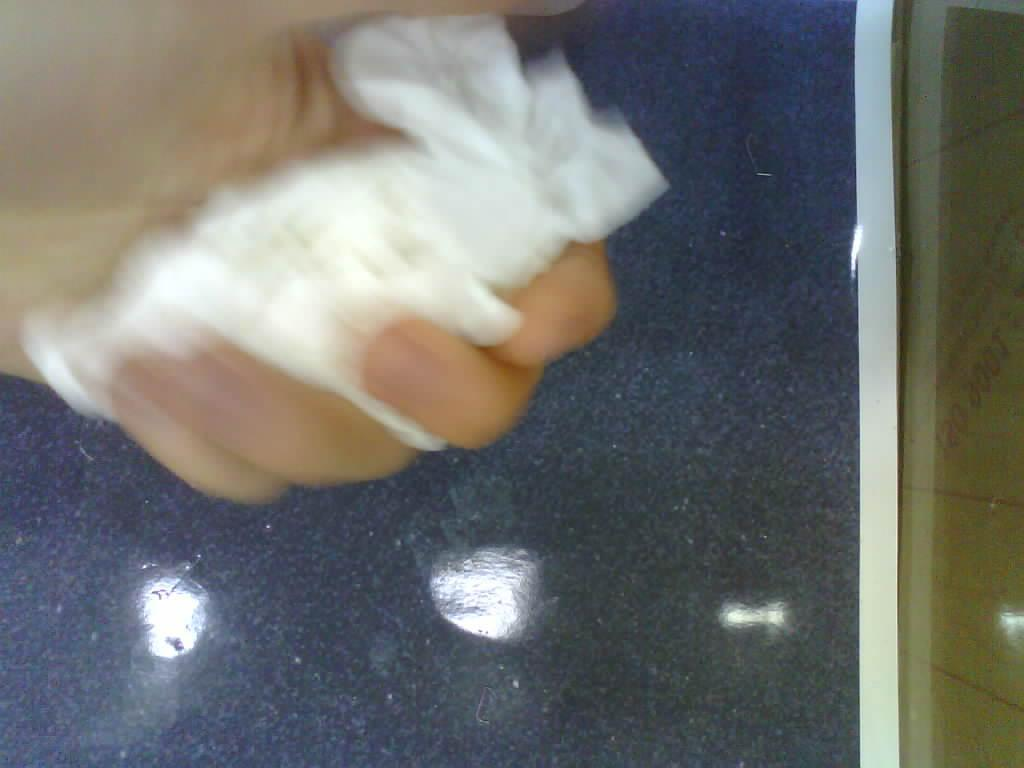paper: (24, 19, 666, 454)
